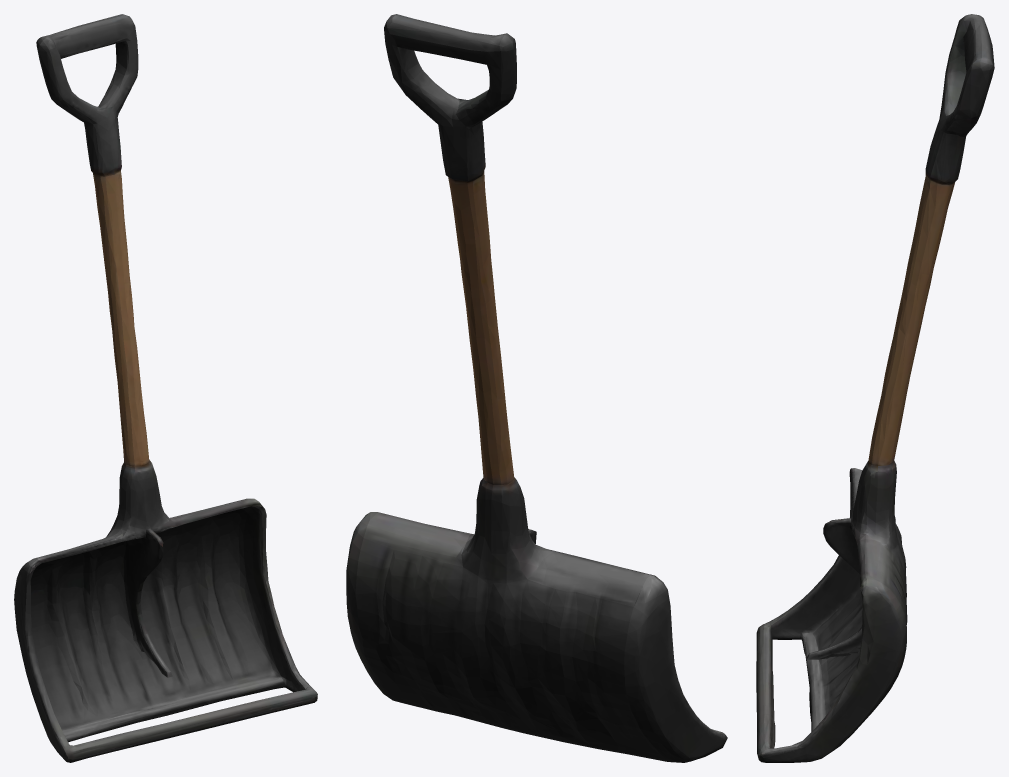
The model's file is shovel.glb.
The picture shows the model from 3 angles, left to right: view 1: azimuth 30°, elevation 25°; view 2: azimuth 150°, elevation 25°; view 3: azimuth 270°, elevation 25°; orthographic projection. The views are drawn at different scales.
Visible parts, largest first — view 1: world; view 2: world; view 3: world.
Boxes of the visible parts, left/top/right/bottom form: world: left=14, top=14, right=317, bottom=762; world: left=346, top=14, right=727, bottom=762; world: left=756, top=14, right=994, bottom=762.
Bounding box in the file's own units: 0.416 × 0.998 × 0.325.
Materials: 1 (1 with a texture image).
